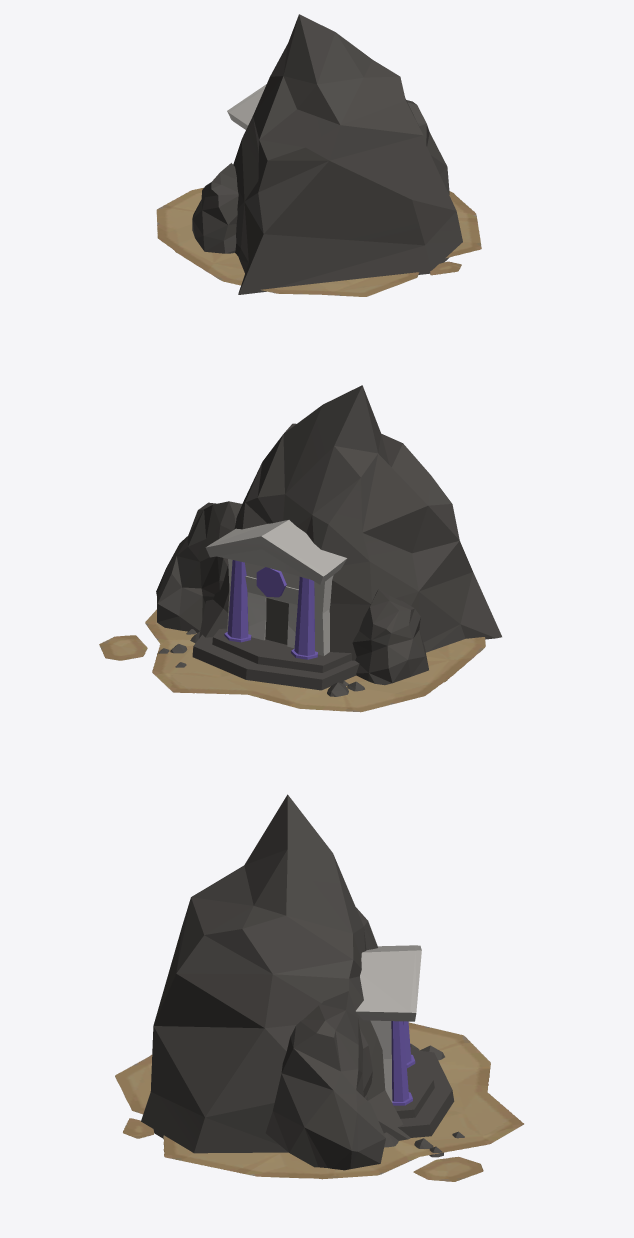
File: timecave.fbx
The picture shows the model from 3 angles, top to bottom: view 1: azimuth 30°, elevation 25°; view 2: azimuth 150°, elevation 25°; view 3: azimuth 270°, elevation 25°; orthographic projection. The views are drawn at different scales.
Visible parts, largest first — view 1: timecave, groundPlane; view 2: timecave, groundPlane; view 3: timecave, groundPlane.
Boxes of the visible parts, x1=… form: timecave: x1=192, y1=14, x2=462, y2=294; groundPlane: x1=156, y1=187, x2=481, y2=296; timecave: x1=156, y1=385, x2=501, y2=696; groundPlane: x1=99, y1=609, x2=485, y2=712; timecave: x1=141, y1=794, x2=464, y2=1170; groundPlane: x1=115, y1=1022, x2=523, y2=1181.
Bounding box in the file's own units: 4.82 × 2.52 × 4.82.
